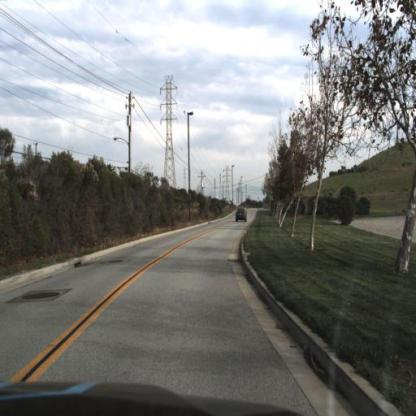car: (235, 207, 252, 226)
